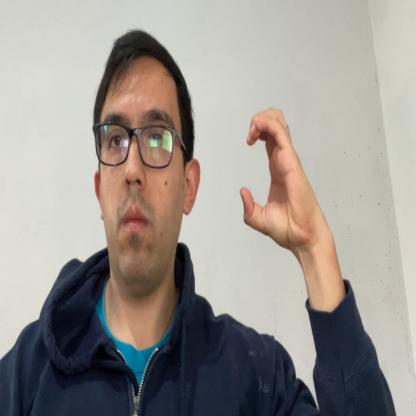C: (240, 106, 310, 245)
